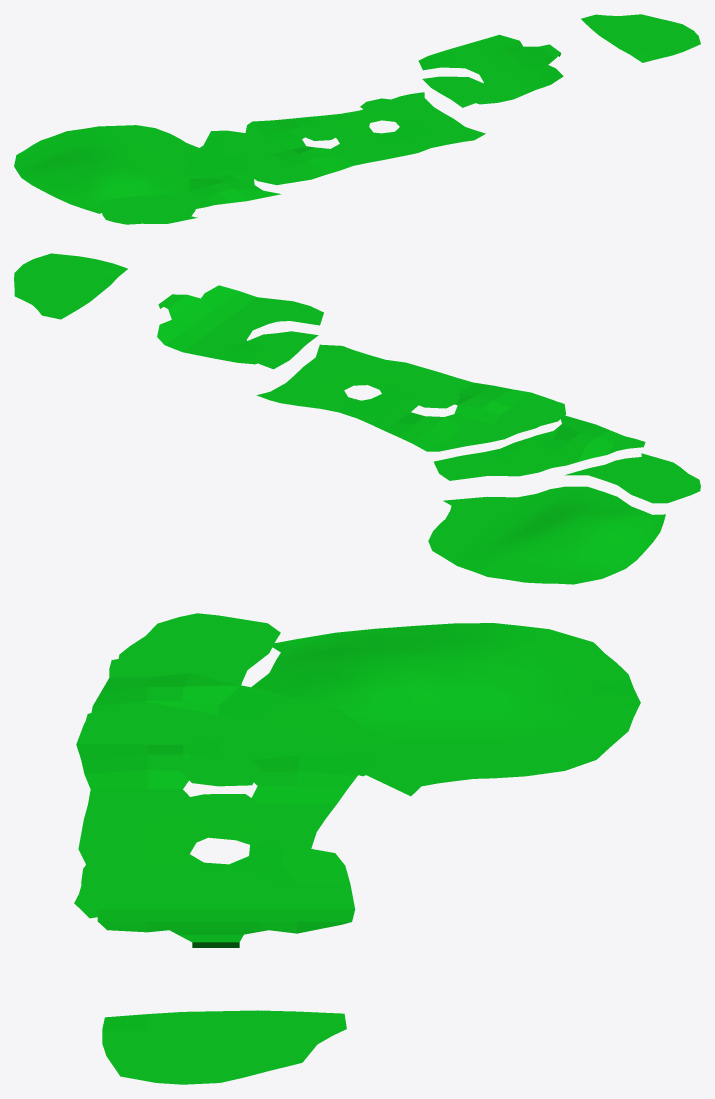
Rendered from lvl1_plat020_02.FBX.
3 renders of one model, top to bottom at view 1: azimuth 30°, elevation 25°; view 2: azimuth 150°, elevation 25°; view 3: azimuth 270°, elevation 25°, orthographic. The views are drawn at different scales.
Parts seen in each view (by area): view 1: lvl1_plat_020_grass; view 2: lvl1_plat_020_grass; view 3: lvl1_plat_020_grass.
Boxes of the visible parts, bbox=[...] form: lvl1_plat_020_grass: bbox=[14, 14, 700, 224]; lvl1_plat_020_grass: bbox=[14, 253, 700, 584]; lvl1_plat_020_grass: bbox=[74, 613, 640, 1084].
Size of the model in its own units: 7415 by 3061 by 798.
